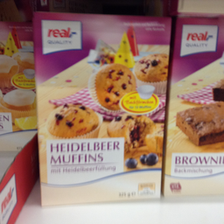cake: (29, 10, 168, 207), (170, 13, 224, 203)
